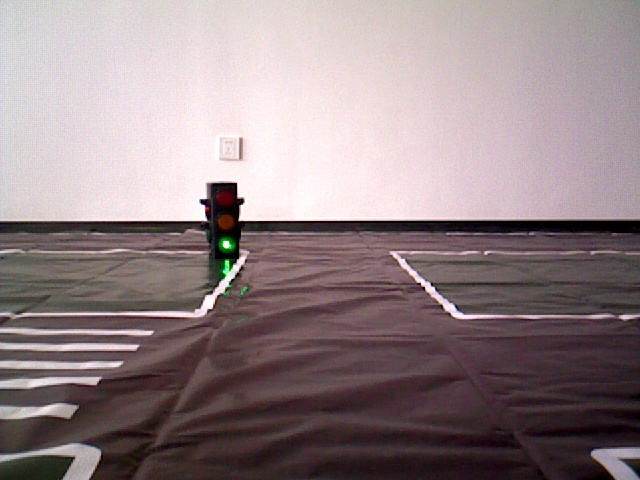green: (205, 189, 239, 258)
